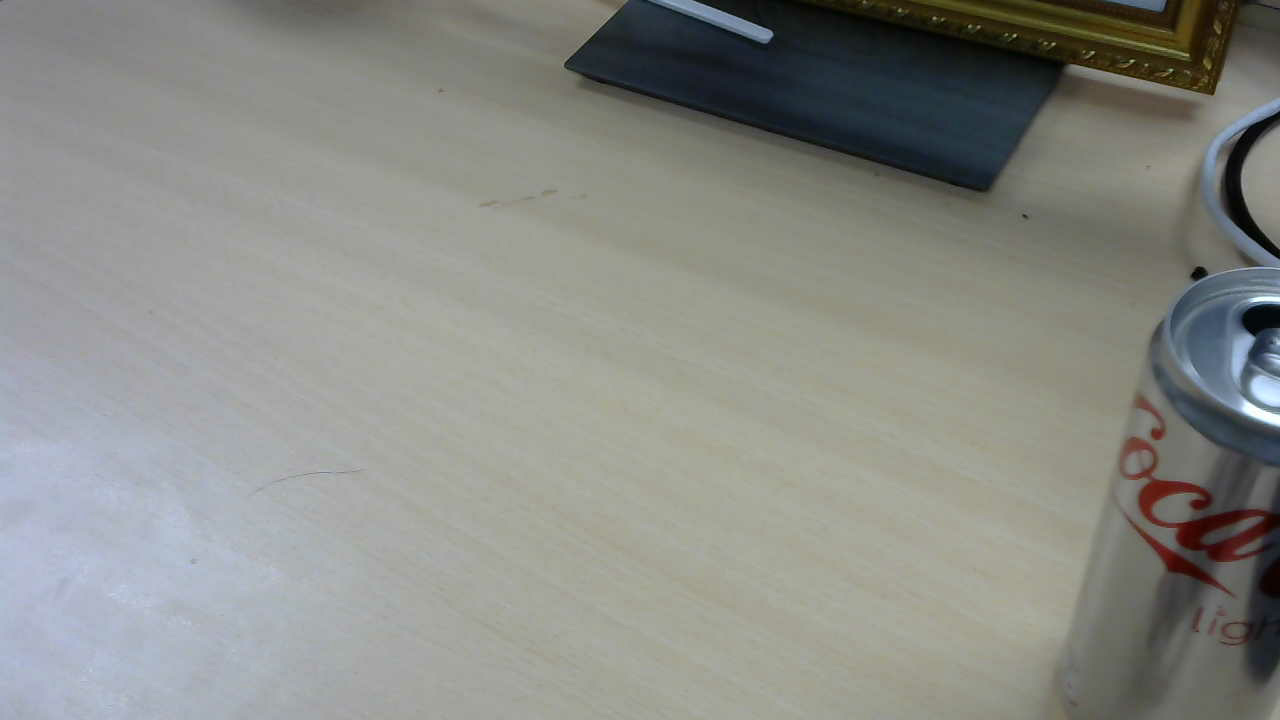Coca_Cola: (1058, 271, 1280, 699)
